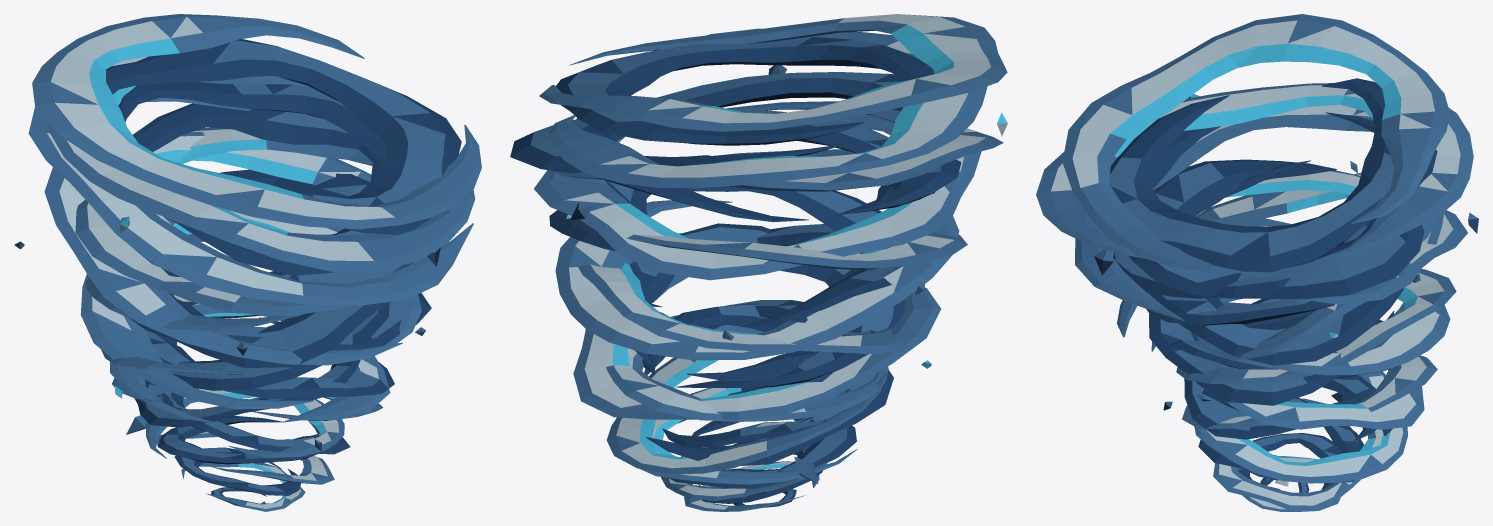
File: Supertornado.glb
3 views of the same model, side by side, from view 1: azimuth 30°, elevation 25°; view 2: azimuth 150°, elevation 25°; view 3: azimuth 270°, elevation 25° (orthographic). The views are drawn at different scales.
Visible parts, largest first — view 1: Wind_Ribbon_26, Wind_Ribbon_25, Wind_Ribbon_22.001, Wind_Ribbon_24, Wind_Ribbon_18.001, Wind_Ribbon_20.001, Wind_Ribbon_23, Wind_Ribbon_21.001, Wind_Ribbon_14.002, Wind_Ribbon_17.001, Wind_Ribbon_11.002, Wind_Ribbon_10.003 (+12 smaller); view 2: Wind_Ribbon_26, Wind_Ribbon_20.001, Wind_Ribbon_24, Wind_Ribbon_25, Wind_Ribbon_16.002, Wind_Ribbon_12.002, Wind_Ribbon_23, Wind_Ribbon_08.003, Wind_Ribbon_14.002, Wind_Ribbon_18.001, Wind_Ribbon_22.001, Wind_Ribbon_13.002 (+13 smaller); view 3: Wind_Ribbon_26, Wind_Ribbon_25, Wind_Ribbon_24, Wind_Ribbon_19.001, Wind_Ribbon_23, Wind_Ribbon_22.001, Wind_Ribbon_18.001, Wind_Ribbon_08.003, Wind_Ribbon_14.002, Wind_Ribbon_20.001, Wind_Ribbon_16.002, Wind_Ribbon_12.002 (+11 smaller).
Boxes of the visible parts, x1,y1,x2,y2 form: Wind_Ribbon_26: (32, 14, 481, 229); Wind_Ribbon_25: (106, 39, 461, 234); Wind_Ribbon_22.001: (28, 97, 473, 305); Wind_Ribbon_24: (46, 56, 475, 272); Wind_Ribbon_18.001: (44, 132, 402, 365); Wind_Ribbon_20.001: (75, 127, 372, 316); Wind_Ribbon_23: (118, 82, 387, 275); Wind_Ribbon_21.001: (133, 103, 414, 283); Wind_Ribbon_14.002: (80, 210, 421, 409); Wind_Ribbon_17.001: (130, 173, 391, 367); Wind_Ribbon_11.002: (145, 301, 394, 398); Wind_Ribbon_10.003: (110, 294, 390, 424); Wind_Ribbon_26: (539, 14, 1007, 131); Wind_Ribbon_20.001: (534, 114, 981, 280); Wind_Ribbon_24: (548, 28, 987, 188); Wind_Ribbon_25: (556, 37, 934, 145); Wind_Ribbon_16.002: (555, 200, 959, 360); Wind_Ribbon_12.002: (573, 275, 940, 419); Wind_Ribbon_23: (510, 72, 904, 173); Wind_Ribbon_08.003: (606, 357, 887, 473); Wind_Ribbon_14.002: (578, 233, 907, 353); Wind_Ribbon_18.001: (626, 232, 967, 270); Wind_Ribbon_22.001: (553, 101, 1003, 191); Wind_Ribbon_13.002: (634, 223, 904, 382); Wind_Ribbon_26: (1062, 14, 1450, 273); Wind_Ribbon_25: (1109, 78, 1437, 272); Wind_Ribbon_24: (1036, 83, 1473, 260); Wind_Ribbon_19.001: (1148, 159, 1403, 365); Wind_Ribbon_23: (1116, 112, 1424, 298); Wind_Ribbon_22.001: (1075, 104, 1440, 320); Wind_Ribbon_18.001: (1117, 173, 1444, 360); Wind_Ribbon_08.003: (1197, 371, 1407, 483); Wind_Ribbon_14.002: (1151, 268, 1456, 384); Wind_Ribbon_20.001: (1111, 170, 1467, 304); Wind_Ribbon_16.002: (1197, 218, 1450, 375); Wind_Ribbon_12.002: (1228, 386, 1424, 429).
Size of the model in its own units: 9.1 by 9.5 by 9.66.
